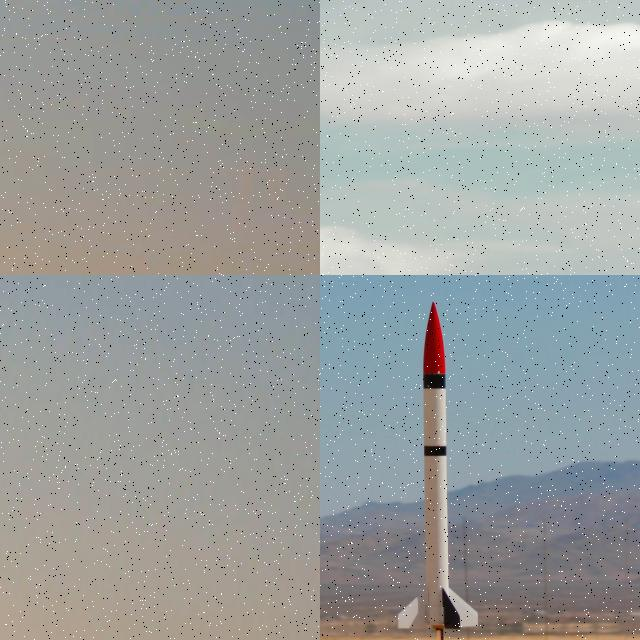Rocket: (396, 302, 479, 631)
